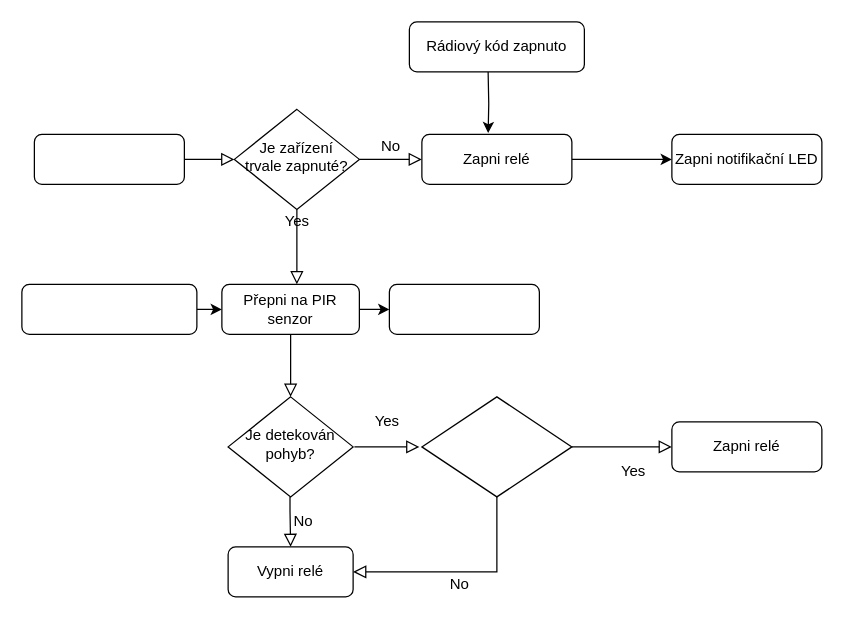
Some shapes in this 844 by 619 pixel diagram are drawn without their labels. The centre of each missing label's shape, as x and y in pixels:
"Je tma?" belongs at pixel 496 446.
"Rádiový kód vypnuto" belongs at pixel 109 308.
"Tlačítko stisknuto" belongs at pixel 108 158.
"Vypni notifikační LED" belongs at pixel 463 308.
